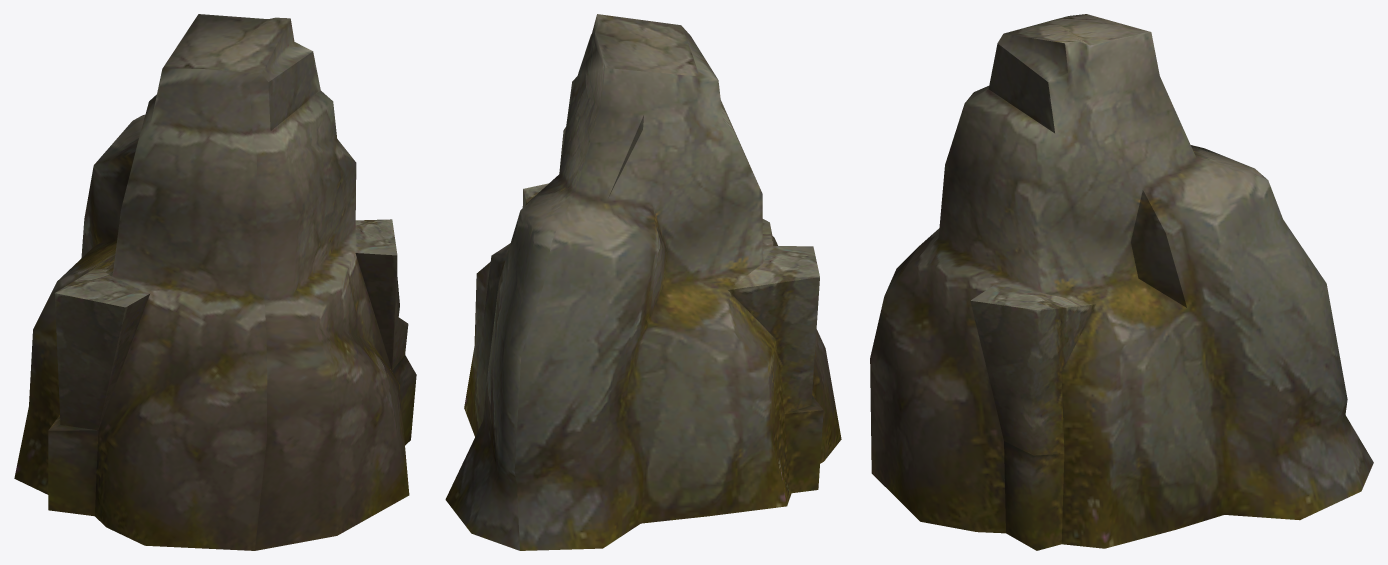
The model's file is rock01.FBX.
3 views of the same model, side by side, from view 1: azimuth 30°, elevation 25°; view 2: azimuth 150°, elevation 25°; view 3: azimuth 270°, elevation 25° (orthographic). The views are drawn at different scales.
Parts seen in each view (by area): view 1: M_a1; view 2: M_a1; view 3: M_a1.
Part boxes in pixels (box(x1,y1,x2,y2)): M_a1: box(14, 14, 416, 550); M_a1: box(445, 14, 841, 550); M_a1: box(870, 14, 1373, 550).
Bounding box in the file's own units: 325 × 377 × 380.
